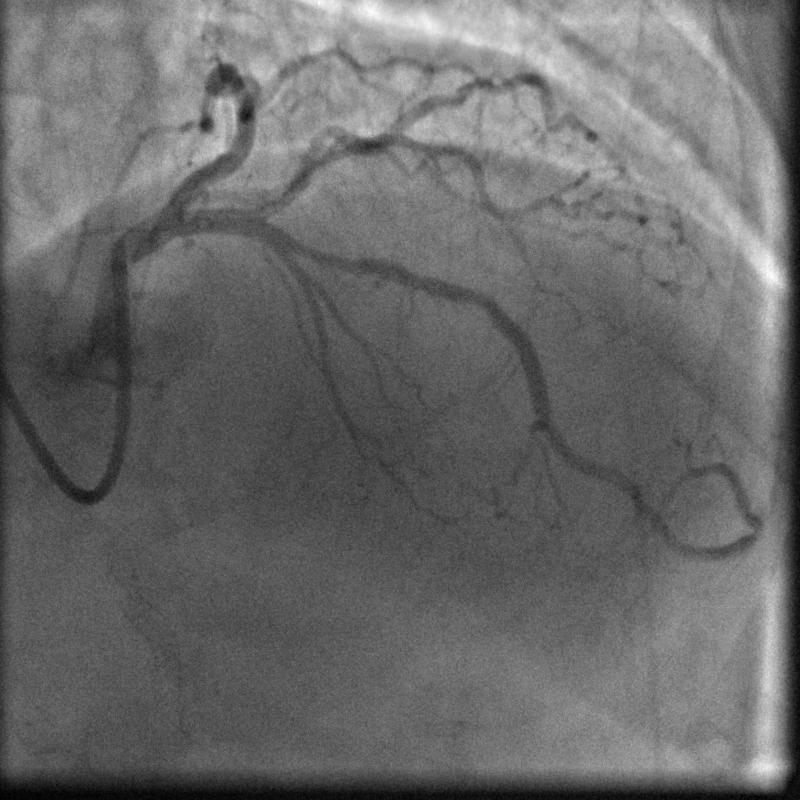Stenosis: (299, 230, 364, 273)
